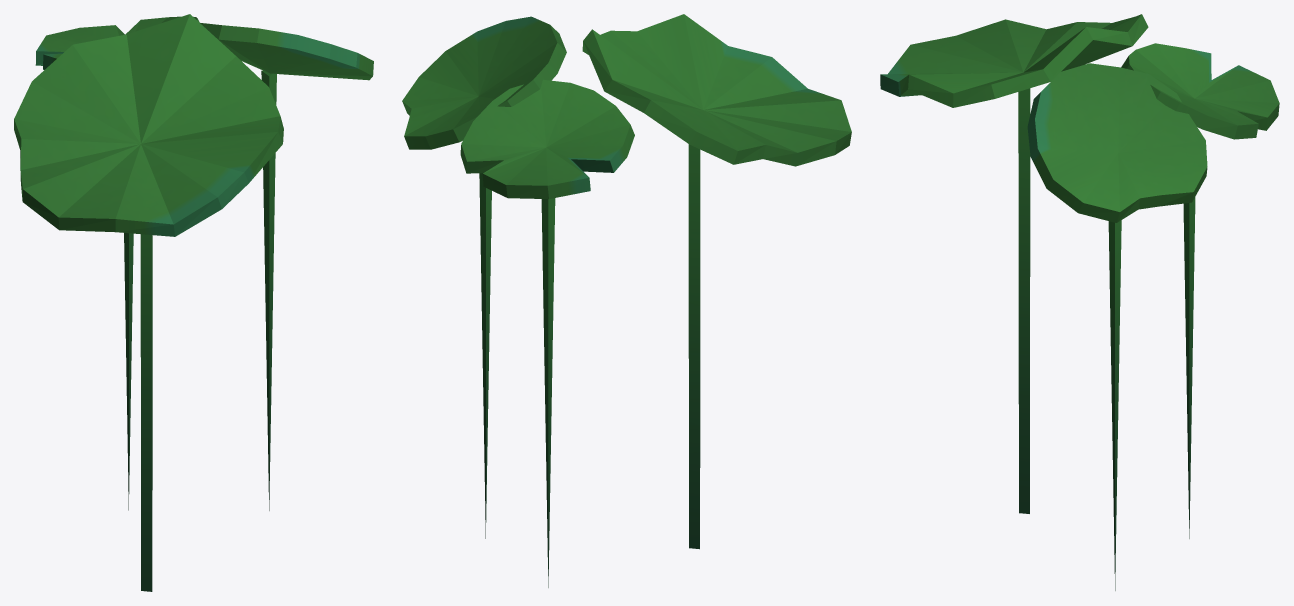
Rendered from ZLP_Grass_E_6.FBX.
The picture shows the model from 3 angles, left to right: view 1: azimuth 30°, elevation 25°; view 2: azimuth 150°, elevation 25°; view 3: azimuth 270°, elevation 25°; orthographic projection. The views are drawn at different scales.
Visible parts, largest first — view 1: ZLP_Grass_E_6; view 2: ZLP_Grass_E_6; view 3: ZLP_Grass_E_6.
Part boxes in pixels (left/top/right/bottom): ZLP_Grass_E_6: left=14, top=14, right=373, bottom=591; ZLP_Grass_E_6: left=402, top=14, right=851, bottom=587; ZLP_Grass_E_6: left=880, top=14, right=1279, bottom=590.
Bounding box in the file's own units: 105 × 139 × 96.72.
